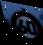Speed Limit -60-: (6, 7, 43, 44)
